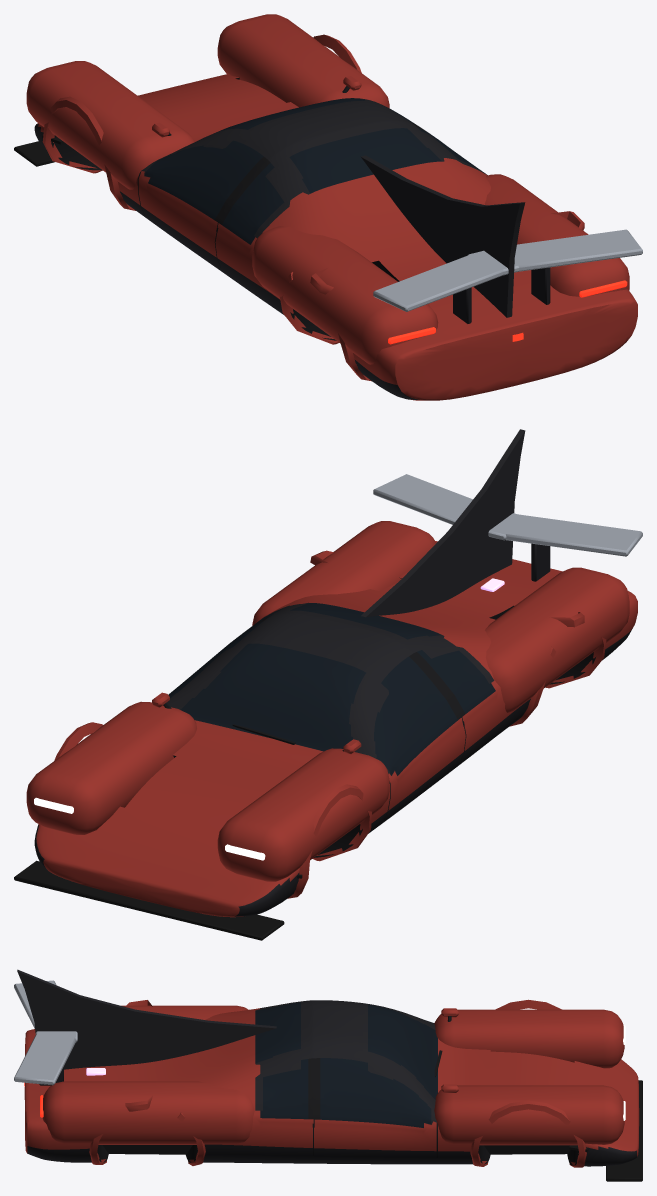
File: car_reaper.glb
The picture shows the model from 3 angles, top to bottom: view 1: azimuth 30°, elevation 25°; view 2: azimuth 150°, elevation 25°; view 3: azimuth 270°, elevation 25°; orthographic projection. The views are drawn at different scales.
Visible parts, largest first — view 1: body, parts, lips; view 2: body, parts, lips; view 3: body, parts, lips.
Part boxes in pixels (x1=…): body: x1=34, y1=74, x2=637, y2=400; parts: x1=14, y1=14, x2=642, y2=364; lips: x1=42, y1=34, x2=584, y2=381; body: x1=34, y1=541, x2=637, y2=917; parts: x1=14, y1=429, x2=642, y2=940; lips: x1=54, y1=550, x2=606, y2=898; body: x1=24, y1=1000, x2=639, y2=1166; parts: x1=14, y1=969, x2=642, y2=1181; lips: x1=89, y1=999, x2=586, y2=1167.
Bounding box in the file's own units: 2.02 × 1.48 × 5.12.
